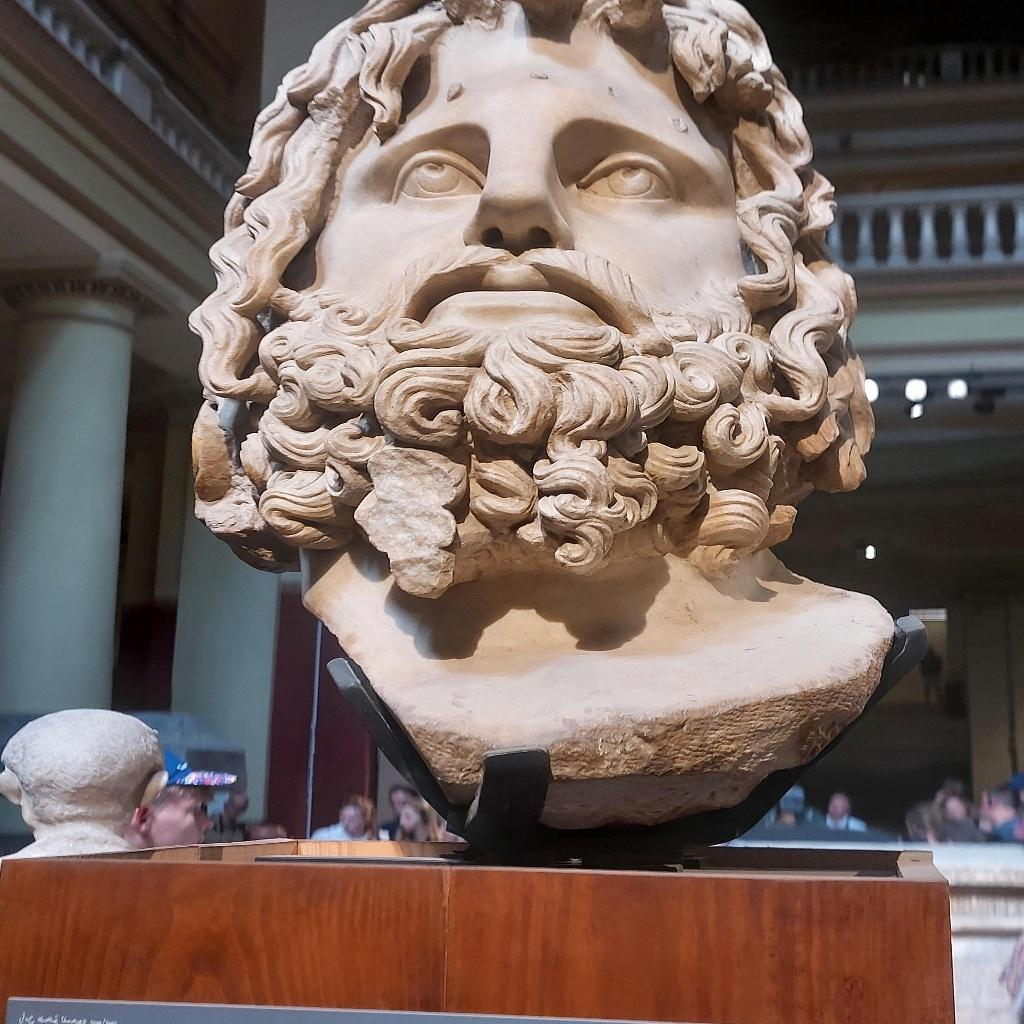Clossal Head of the god Serapis: (182, 0, 892, 731)
